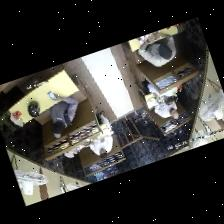person: (137, 32, 175, 66), (49, 95, 77, 137), (141, 78, 173, 104), (89, 131, 112, 157), (154, 101, 177, 118)
